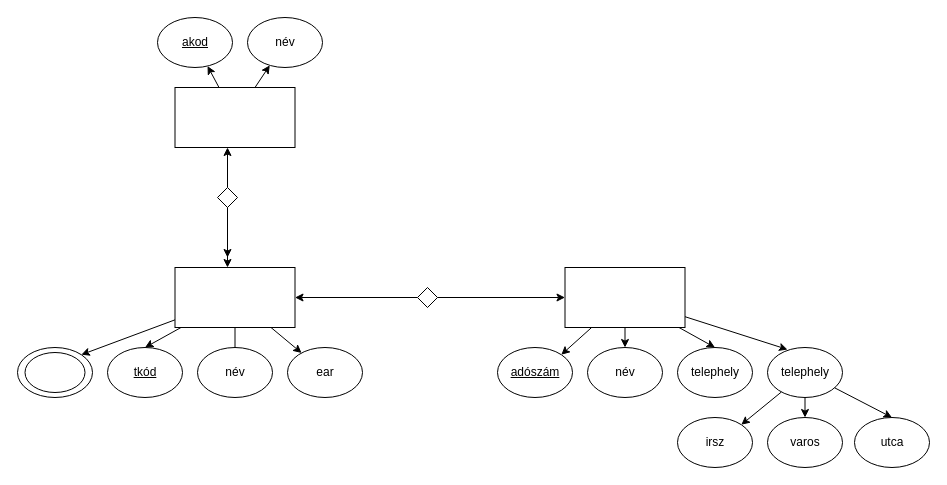
The diagram is 947 pixels wide and 485 high, and some of its shapes have lost their labels. Here are the shapes that lost their labels. From the top down, the centre of each, then its label:
point 234,117: alkatrész
point 234,297: termék
point 624,297: gyártó
point 54,372: egy. darab.
